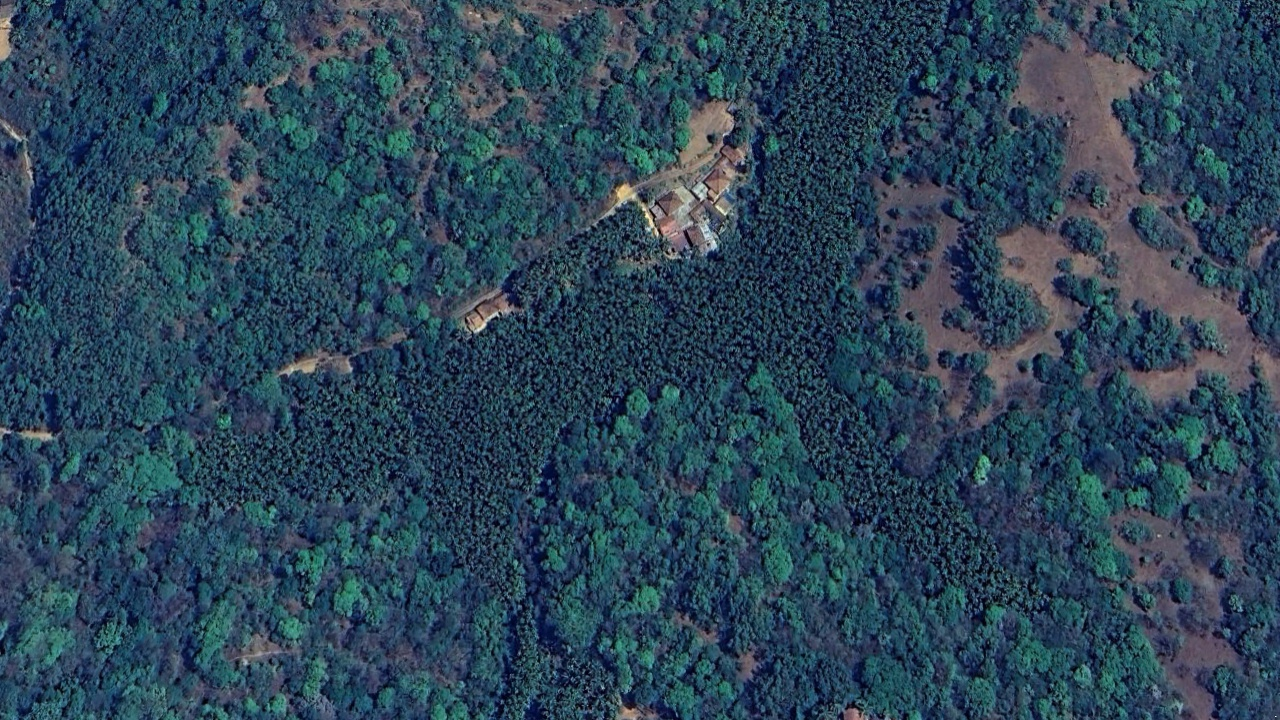arecanut: (772, 7, 1023, 590), (227, 261, 766, 495)
